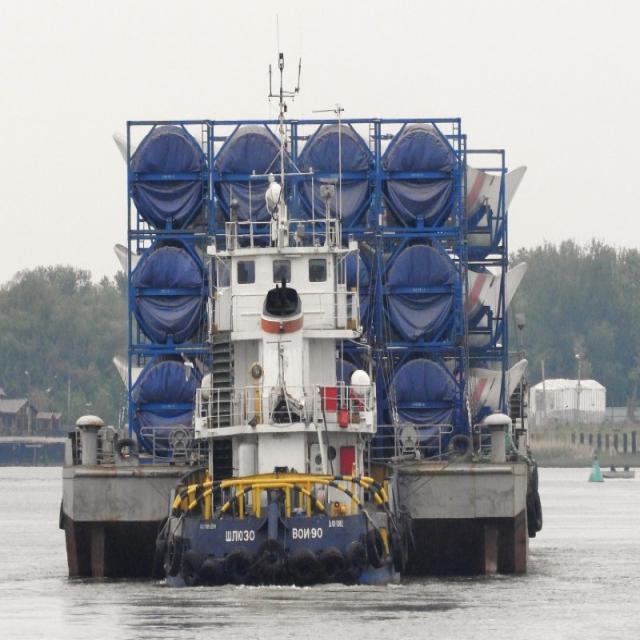tugboat: (152, 165, 418, 597)
